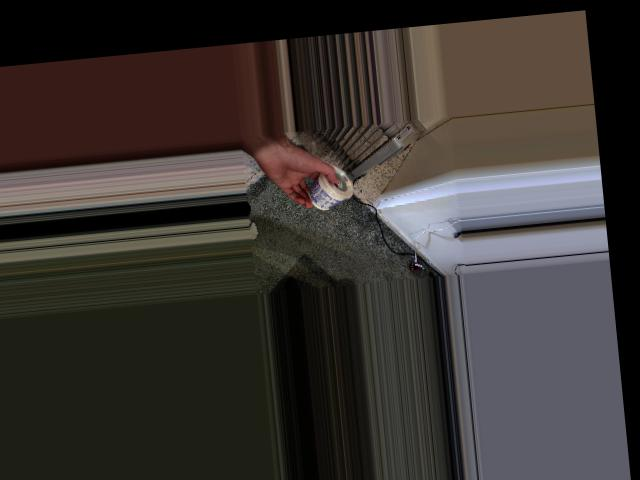cotage: (302, 165, 353, 212)
